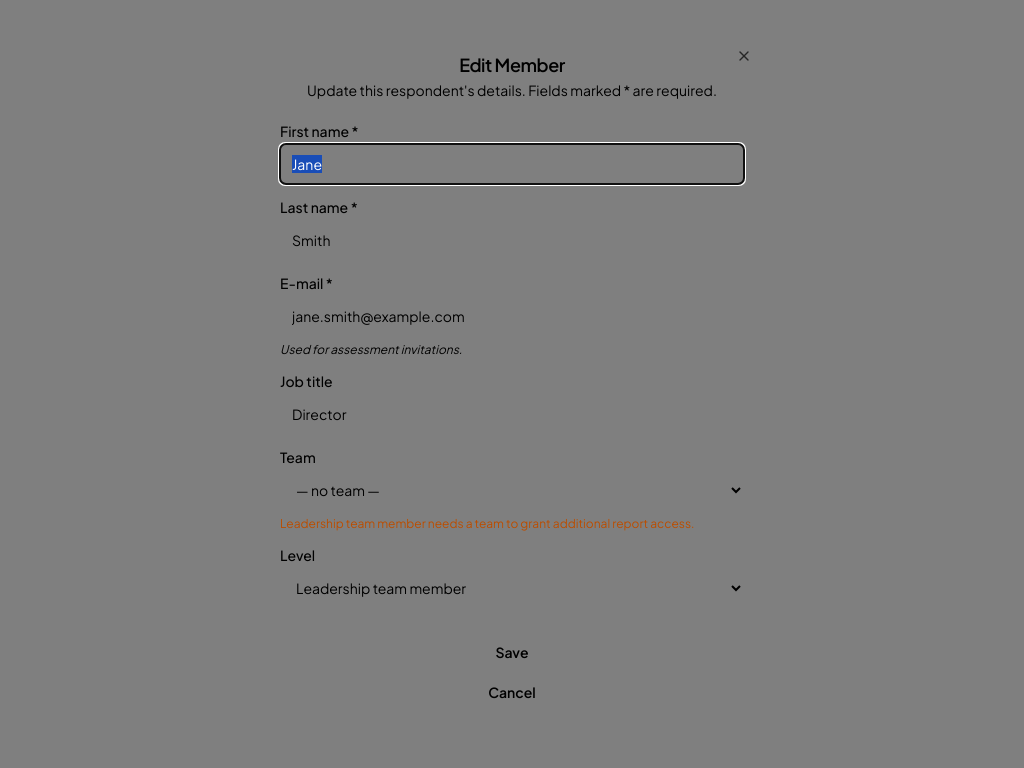
Test: EditMemberModal › warns when a leadership team member has no team while the member portal is enabled
Check: the text "Leadership team member needs a team to grant additional report access." is shown, box x1=280 y1=516 x2=744 y2=532
Select "Engineering" in the dropdown with test id "select-team": (512, 490) x1=280 y1=470 x2=744 y2=510
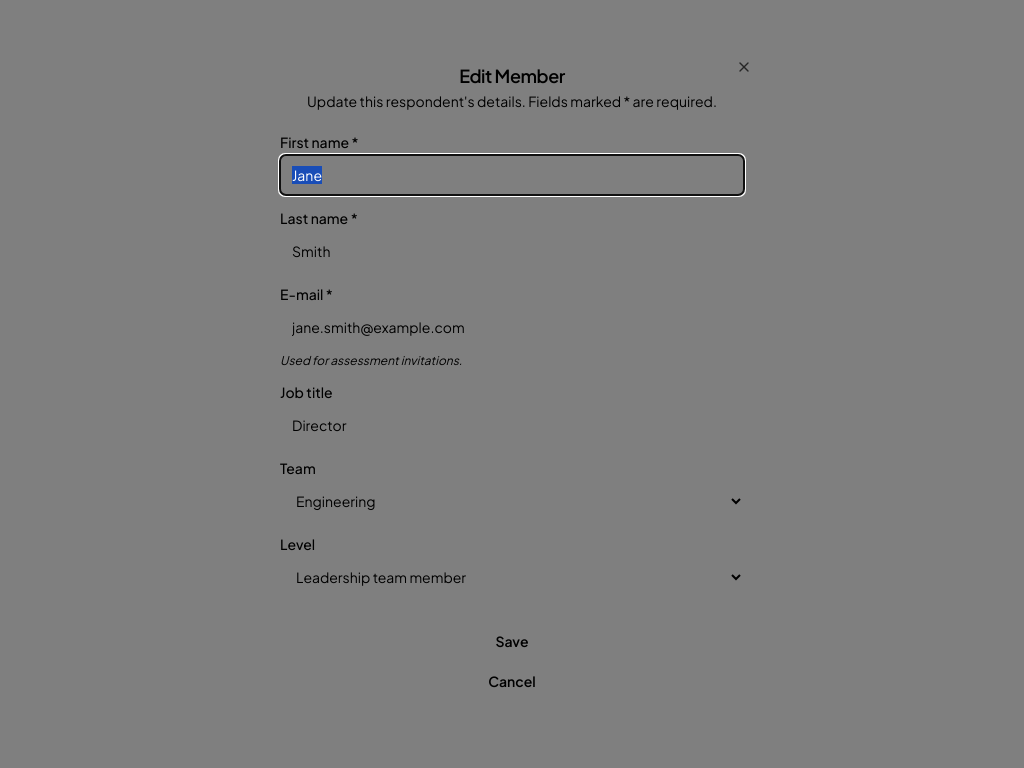
Check: the text "Leadership team member needs a team to grant additional report access." is gone
